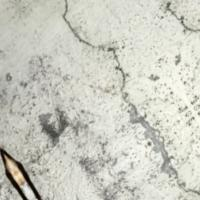crack: (59, 1, 170, 127)
